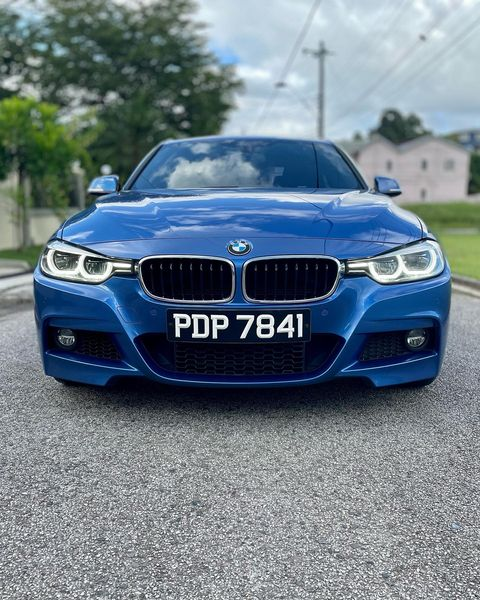License-Plate: (166, 310, 309, 340)
